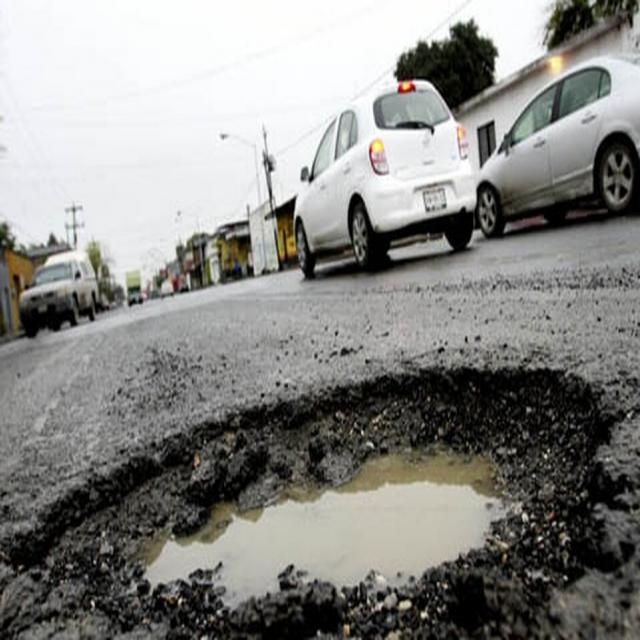Pothole: (41, 341, 623, 640)
